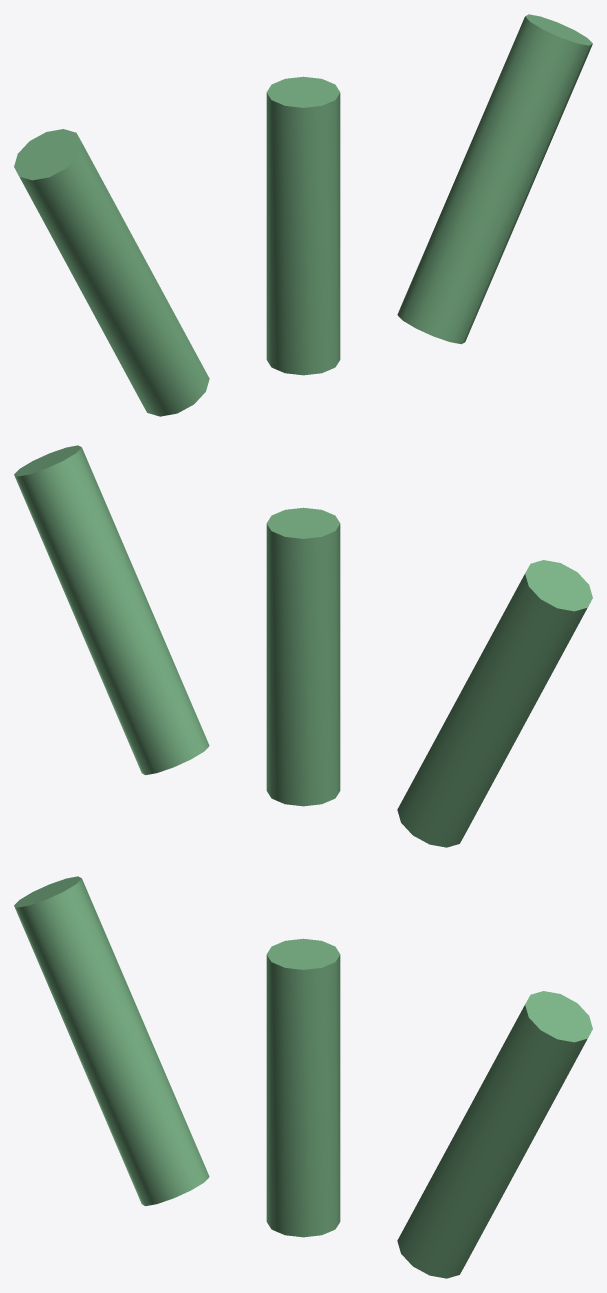
Rendered from conch_ox_rice_Grow.glb.
3 views of the same model, one above another, from view 1: azimuth 30°, elevation 25°; view 2: azimuth 150°, elevation 25°; view 3: azimuth 330°, elevation 25° (orthographic).
Size of the model in its own units: 4.45 by 2.22 by 0.5.
